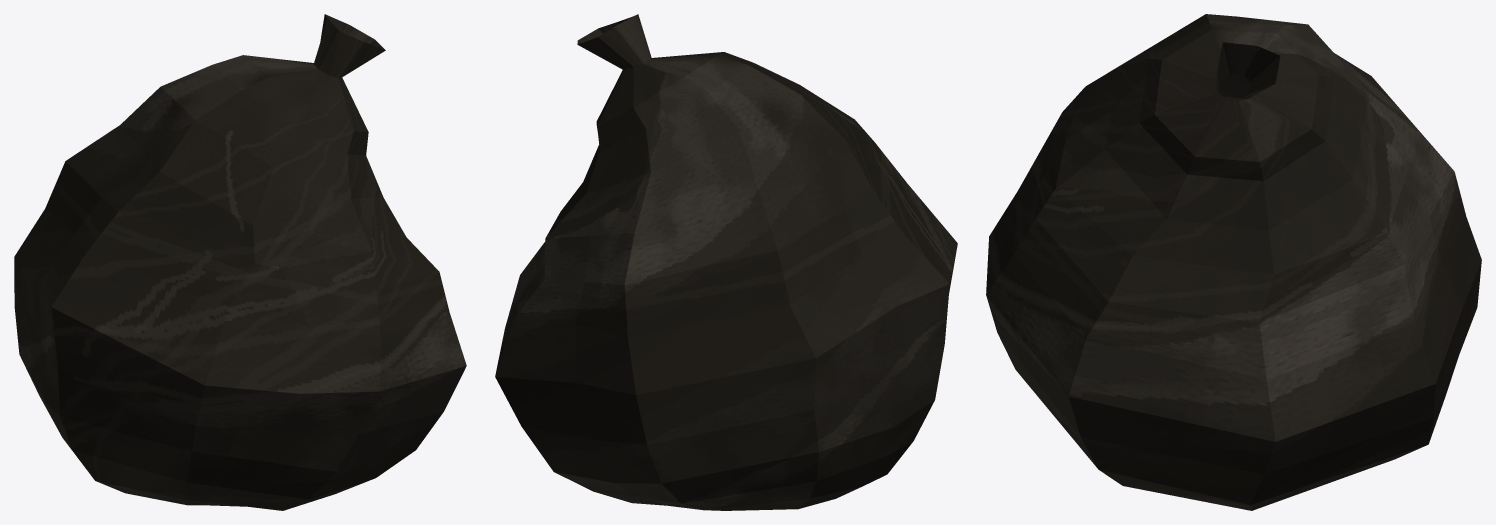
The model's file is SM_Kitchentrash.fbx.
The picture shows the model from 3 angles, left to right: view 1: azimuth 30°, elevation 25°; view 2: azimuth 150°, elevation 25°; view 3: azimuth 270°, elevation 25°; orthographic projection. The views are drawn at different scales.
Parts seen in each view (by area): view 1: SM_grbge; view 2: SM_grbge; view 3: SM_grbge.
Part boxes in pixels (x1=…): SM_grbge: x1=14, y1=14, x2=466, y2=510; SM_grbge: x1=495, y1=14, x2=957, y2=510; SM_grbge: x1=986, y1=14, x2=1481, y2=510.
Bounding box in the file's own units: 51.77 × 53.69 × 50.86.
